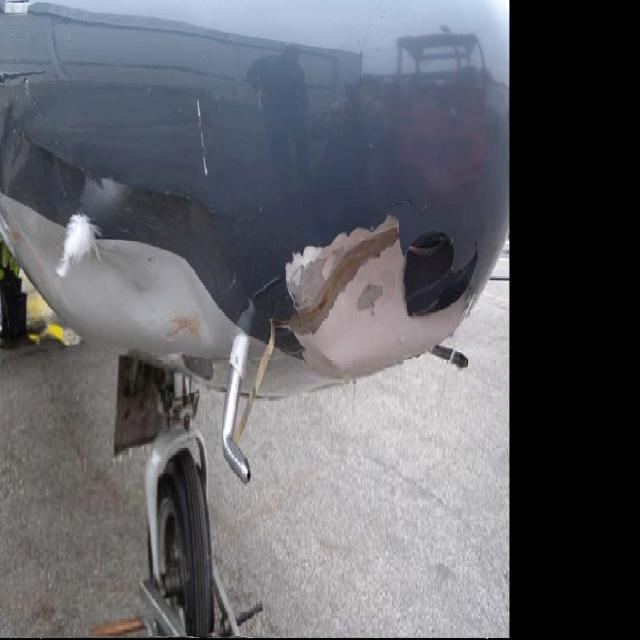crack: (391, 196, 433, 219)
dent: (91, 239, 217, 348), (314, 235, 401, 374)
